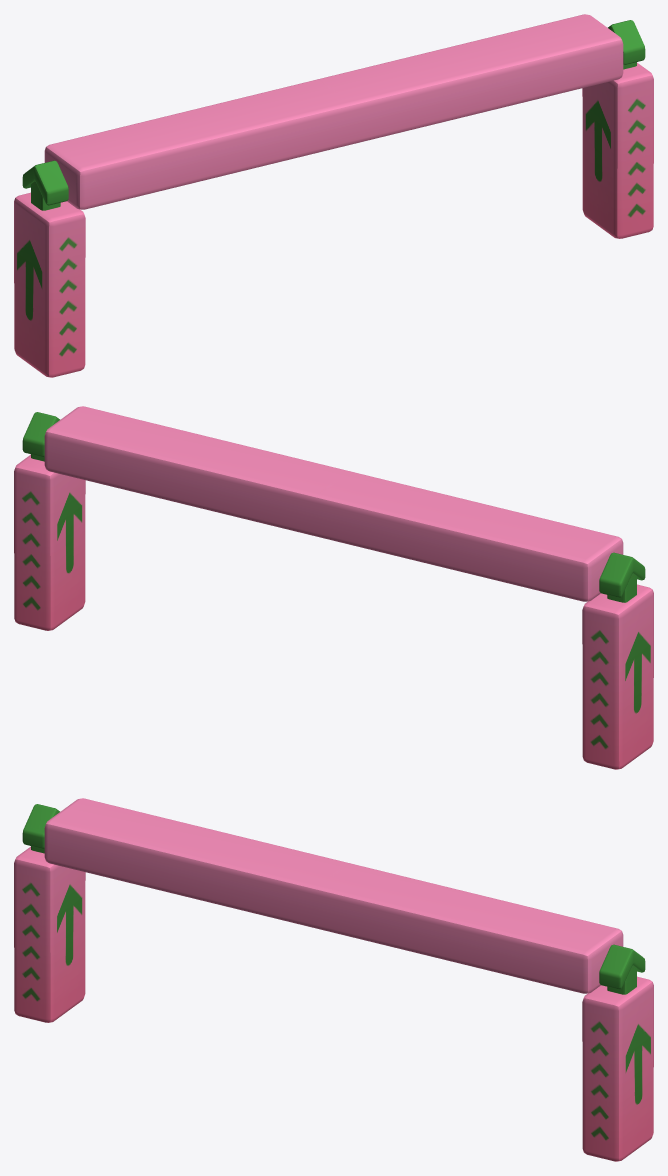
3 renders of one model, top to bottom at view 1: azimuth 30°, elevation 25°; view 2: azimuth 150°, elevation 25°; view 3: azimuth 330°, elevation 25°, orthographic.
Parts seen in each view (by area): view 1: shape3_5; view 2: shape3_5; view 3: shape3_5.
Part boxes in pixels (left/top/right/bottom): shape3_5: left=14, top=14, right=653, bottom=377; shape3_5: left=14, top=406, right=653, bottom=769; shape3_5: left=14, top=798, right=653, bottom=1161.
Bounding box in the file's own units: 46.99 × 15 × 5.
